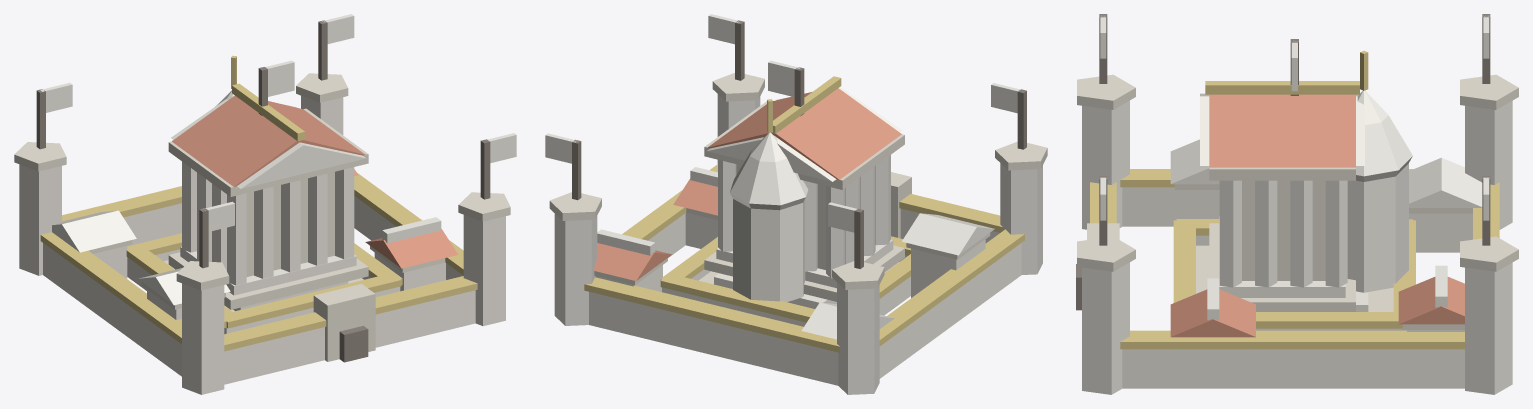
File: capital.glb
3 renders of one model, left to right at view 1: azimuth 30°, elevation 25°; view 2: azimuth 150°, elevation 25°; view 3: azimuth 270°, elevation 25°, orthographic. The views are drawn at different scales.
Visible parts, largest first — view 1: classical_capital; view 2: classical_capital; view 3: classical_capital.
Boxes of the visible parts, x1,y1,x2,y2 form: classical_capital: (14, 14, 516, 394); classical_capital: (545, 14, 1047, 394); classical_capital: (1076, 14, 1518, 394).
Size of the model in its own units: 1 by 0.6372 by 0.9739.
